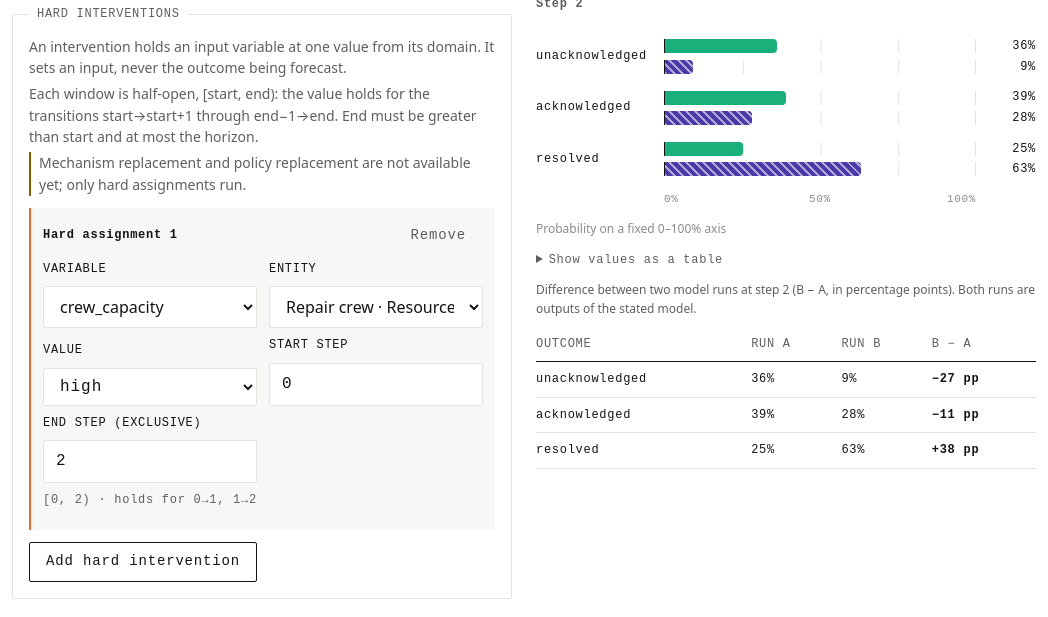
Test case: Step5Interaction › re-runs the selected run's request with an edited intervention
(page scrolled)
Check: the dropdown with test id "iv-value" shows "high", box left=43, top=368, right=257, bottom=406
Step 1. Replace the text in the number field with test id "iv-start" with "1" → coordinates (376, 384), box left=269, top=363, right=483, bottom=406
(page scrolled)
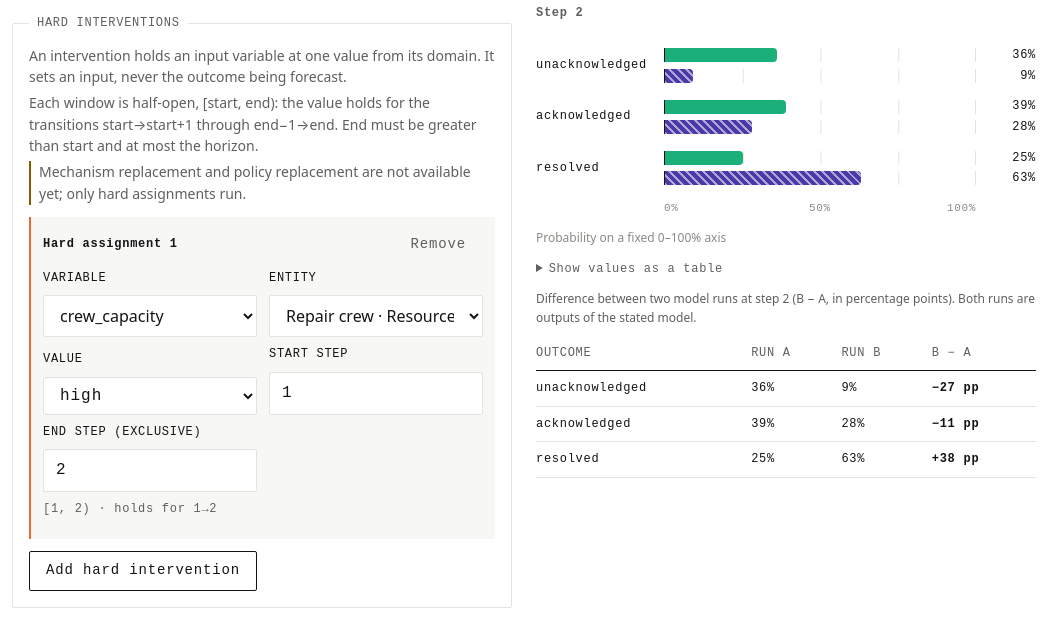
Step 2. Submit the form with test id "forecast-form"
(page scrolled)
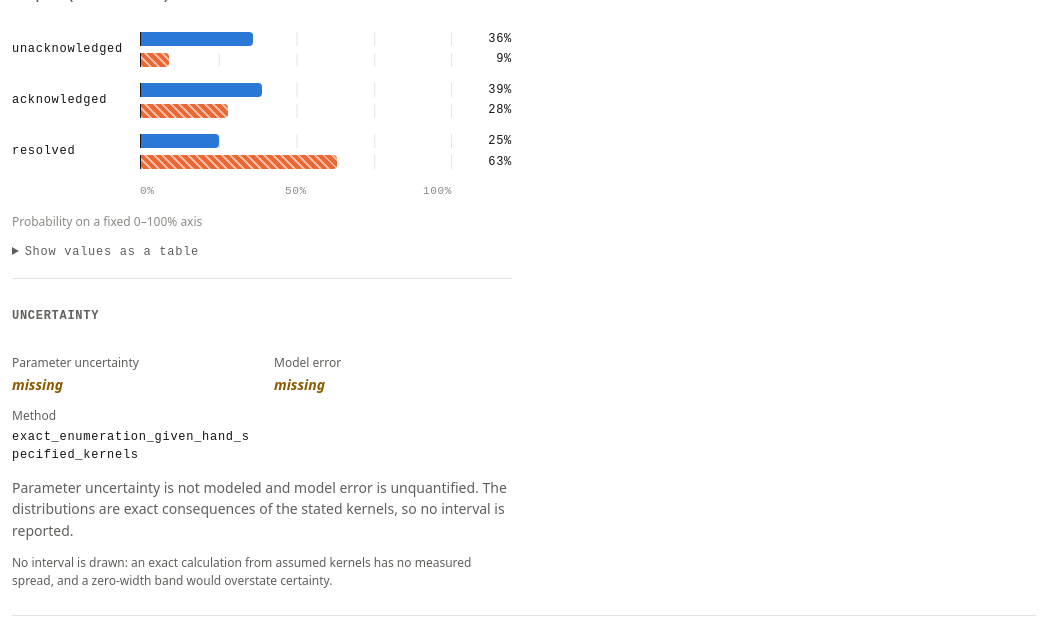
Check: the text with test id "uncertainty-parameter" reads "missing", box left=12, top=375, right=63, bottom=394
